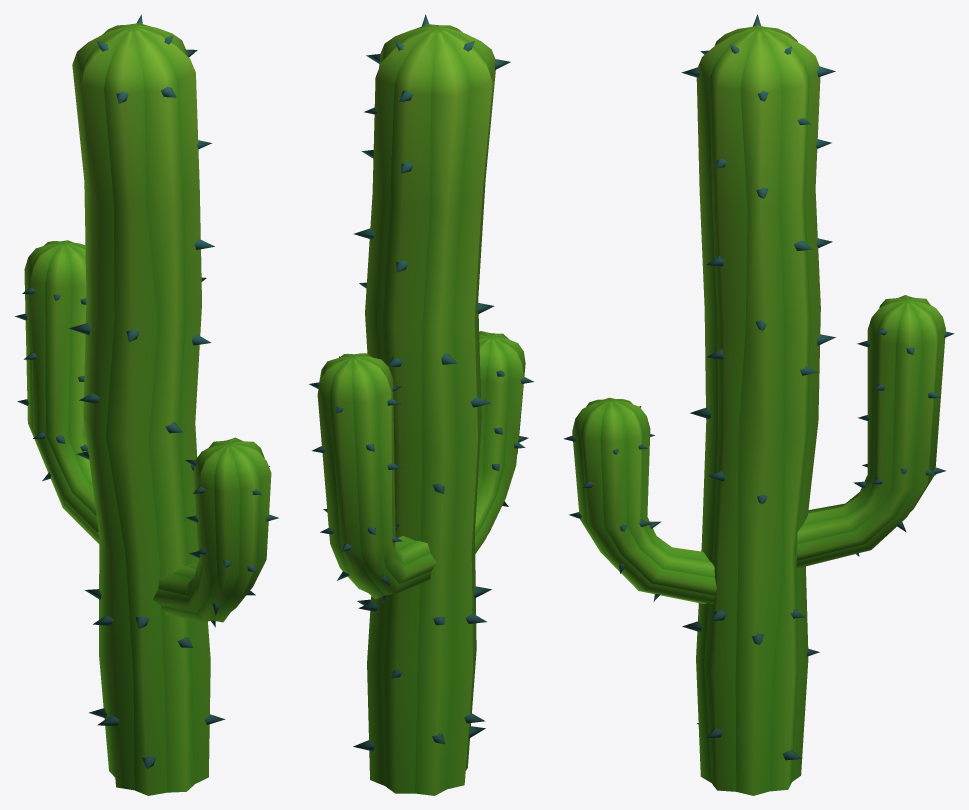
File: Cactus1.fbx
3 renders of one model, left to right at view 1: azimuth 30°, elevation 25°; view 2: azimuth 150°, elevation 25°; view 3: azimuth 270°, elevation 25°, orthographic. The views are drawn at different scales.
Parts seen in each view (by area): view 1: pasted__Circle.029; view 2: pasted__Circle.029; view 3: pasted__Circle.029.
Boxes of the visible parts, <box> form: pasted__Circle.029: <box>15,14,278,795</box>; pasted__Circle.029: <box>309,14,533,795</box>; pasted__Circle.029: <box>563,14,954,795</box>.
Size of the model in its own units: 45.01 by 241 by 116.
